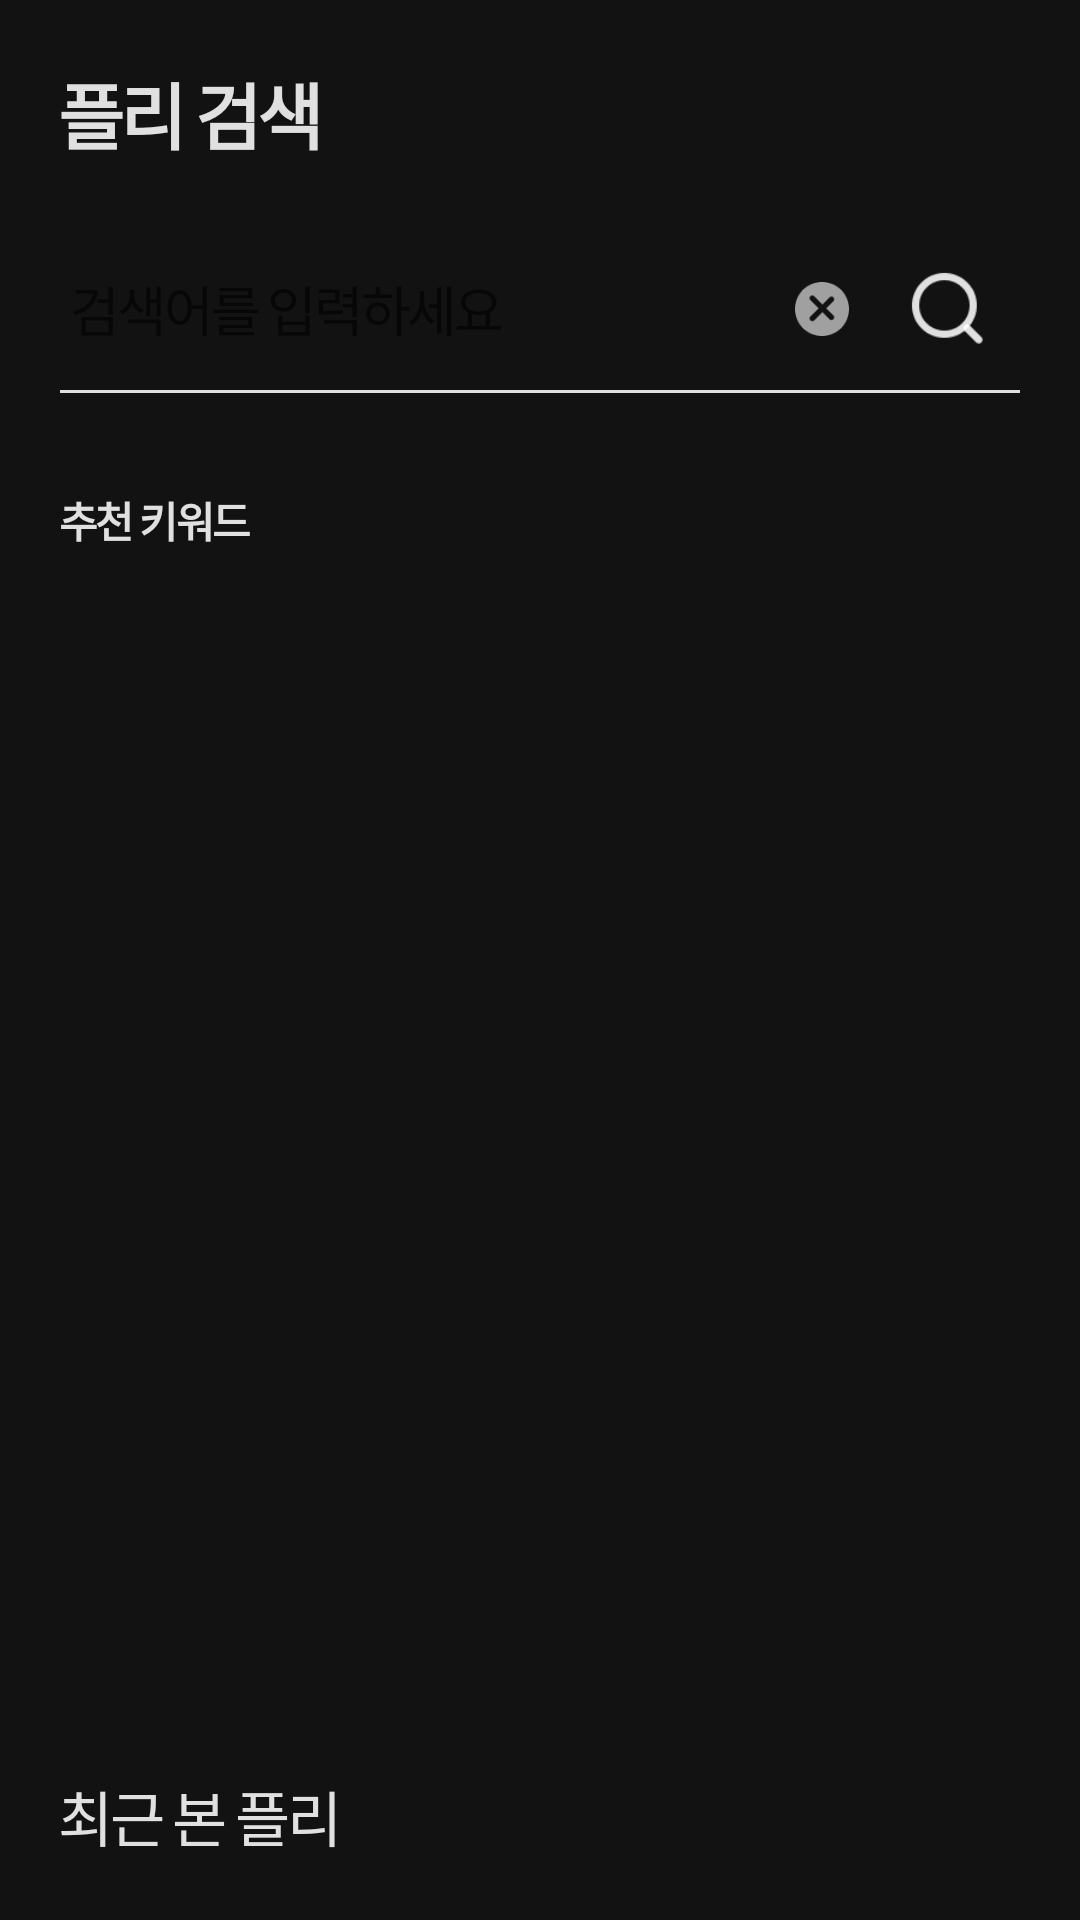

Icons on this 1080*1920 Android screen, each with its box as box(x1, y1, x2, y2):
keyword all cancel: box(795, 282, 849, 336)
search: box(912, 273, 983, 344)
